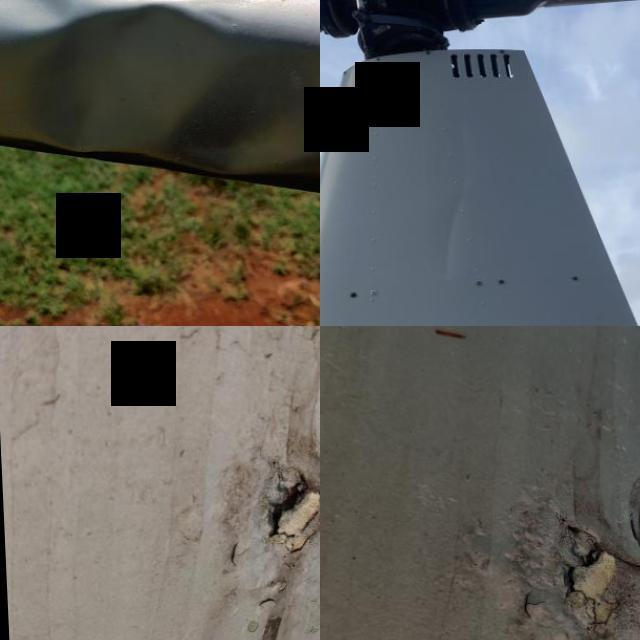Crack: (527, 518, 640, 636), (232, 466, 320, 576)
Dent: (0, 0, 320, 197), (418, 100, 488, 294)
